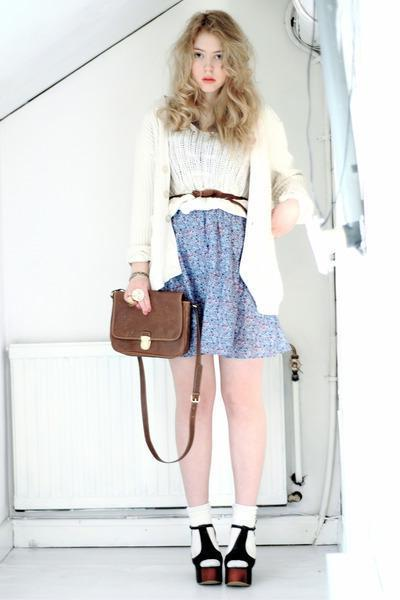skirt: (151, 212, 289, 360)
sweater: (118, 102, 308, 317)
vest: (158, 103, 258, 221)
